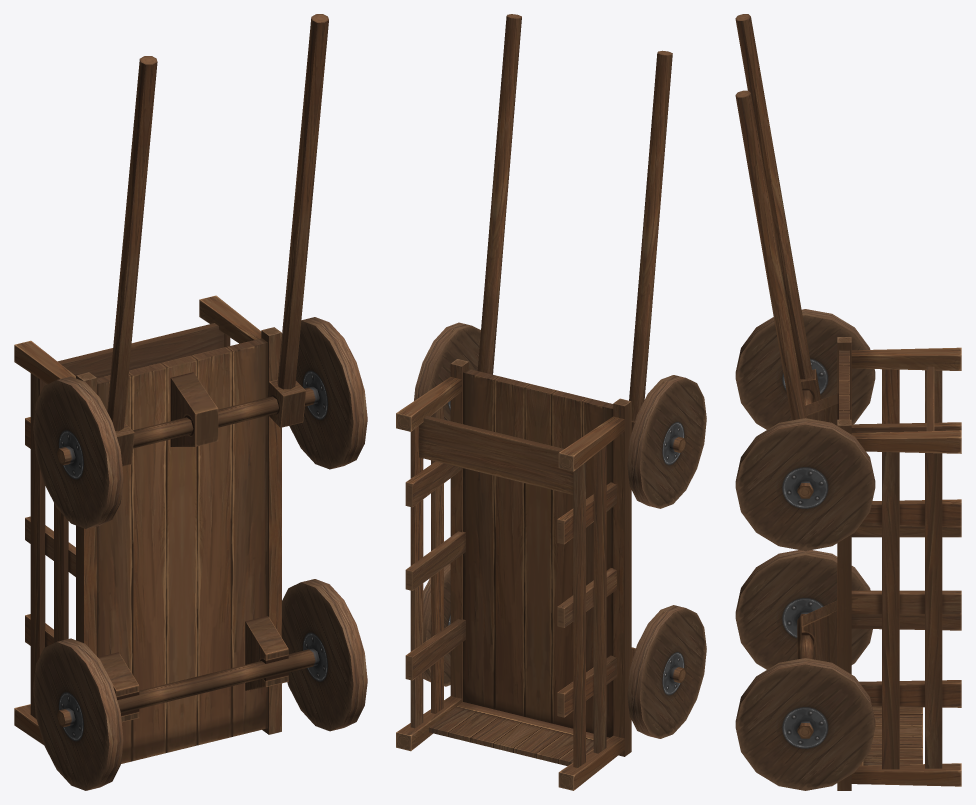
File: cart2.fbx
The picture shows the model from 3 angles, left to right: view 1: azimuth 30°, elevation 25°; view 2: azimuth 150°, elevation 25°; view 3: azimuth 270°, elevation 25°; orthographic projection. The views are drawn at different scales.
Visible parts, largest first — view 1: cart2_LOD0; view 2: cart2_LOD0; view 3: cart2_LOD0.
Boxes of the visible parts, <box> form: cart2_LOD0: <box>14,14,367,790</box>; cart2_LOD0: <box>396,14,706,790</box>; cart2_LOD0: <box>735,14,961,790</box>.
Size of what is drawn, in the model's own units: 2.02 by 5.23 by 1.55.
